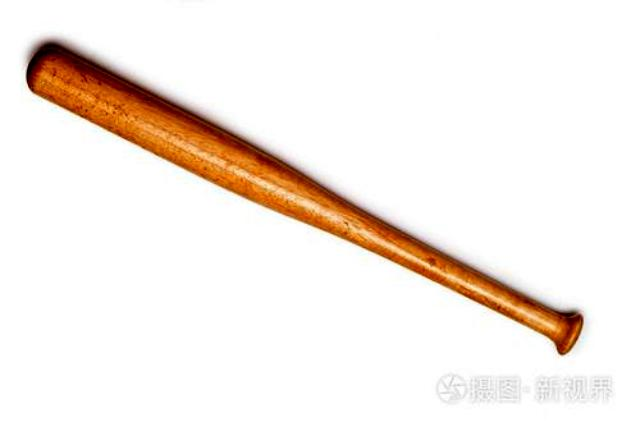baseball bat: (21, 31, 596, 365)
